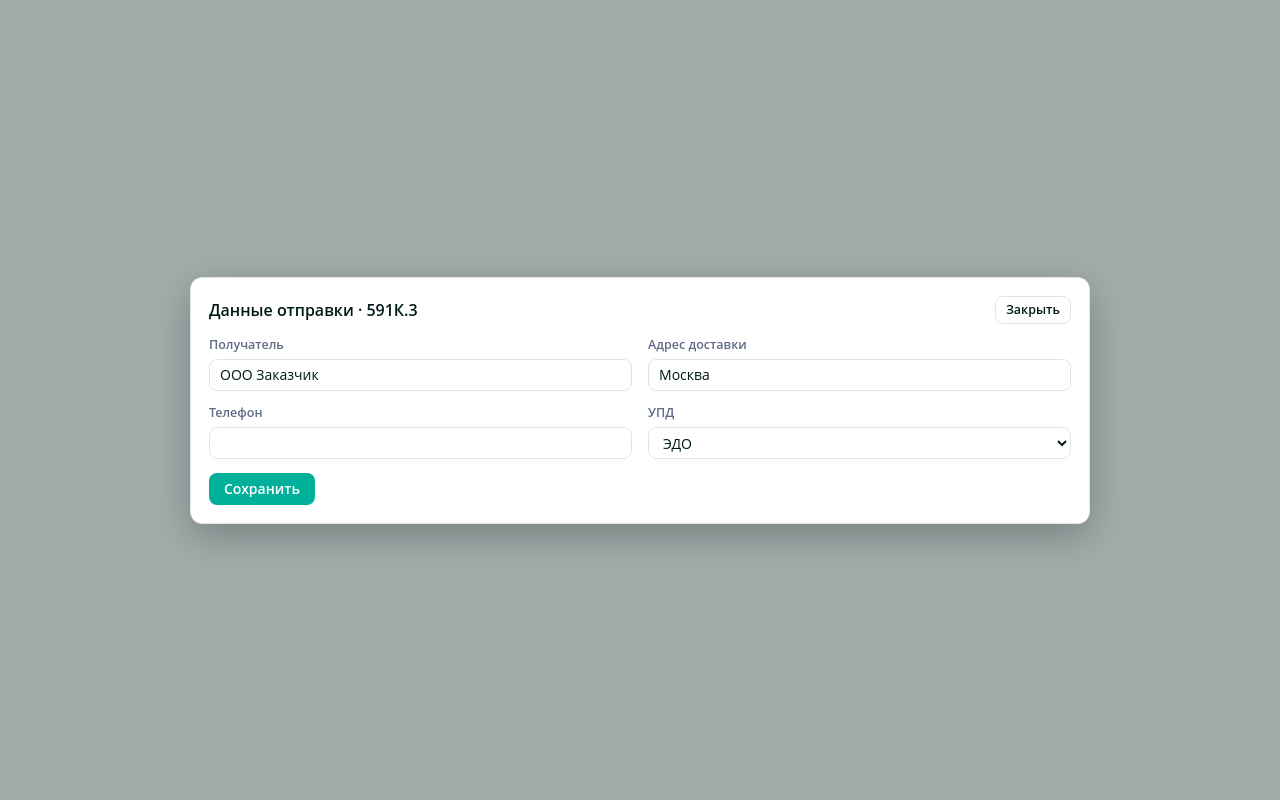
Test: Данные отправки › не шлёт скрытые поля: в PUT только версия и изменённое
The width and height of the screenshot is (1280, 800).
Expected: the field labelled "Получатель" holds "ООО Заказчик", x1=209 y1=358 x2=632 y2=390
Replace the text in the field labelled "Адрес доставки" with "Тула, ул. Ленина 1". click: (860,374)
box: x1=648 y1=358 x2=1071 y2=390
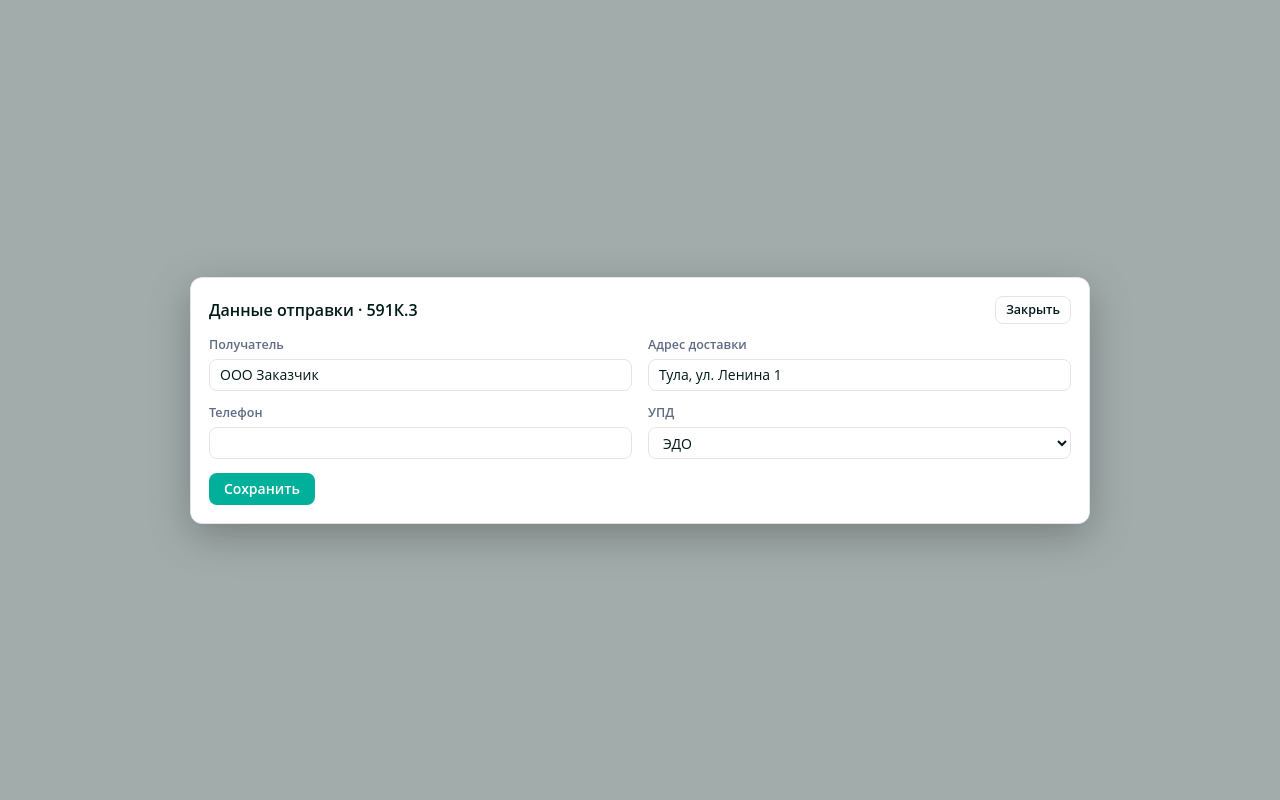
Click the button "Сохранить". click: (262,488)
box: x1=209 y1=472 x2=315 y2=504
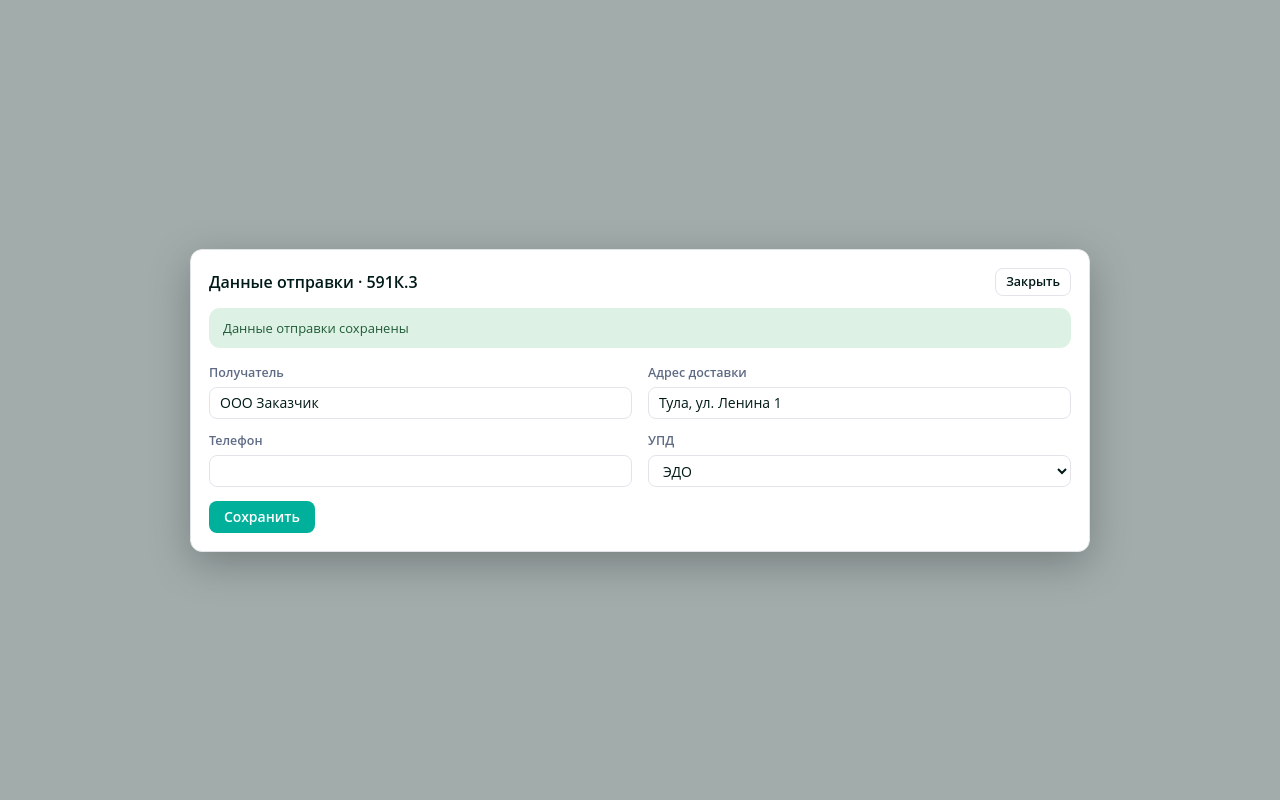
Expected: the text "Данные отправки сохранены" is shown, x1=209 y1=308 x2=1071 y2=348
